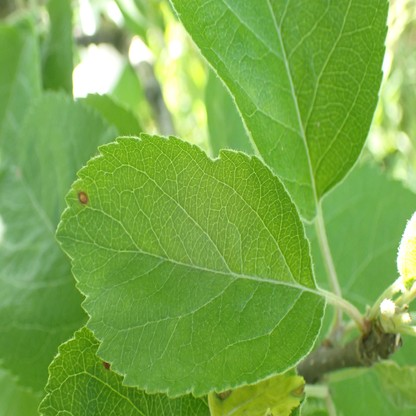frogeye_leaf_spot: (290, 386, 305, 398), (217, 389, 232, 399), (77, 192, 87, 204), (103, 362, 111, 372)
